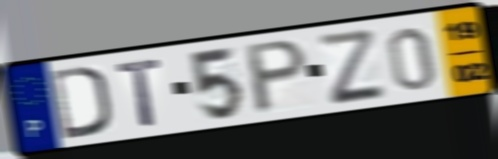0: (384, 25, 440, 93)
5: (186, 43, 247, 122)
D: (48, 63, 113, 142)
P: (244, 36, 311, 118)
T: (114, 55, 165, 129)
Z: (313, 26, 389, 107)
